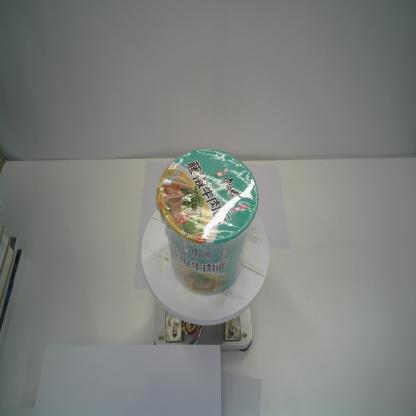Instant Noodles: (155, 148, 259, 296)
